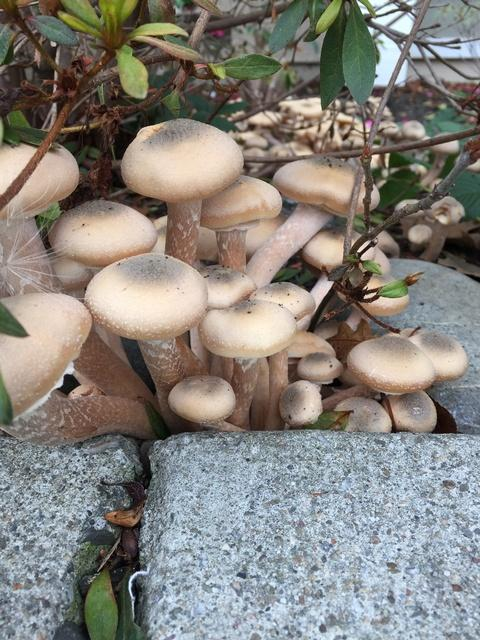Edible Mushroom: (0, 117, 468, 435), (119, 116, 244, 265)
